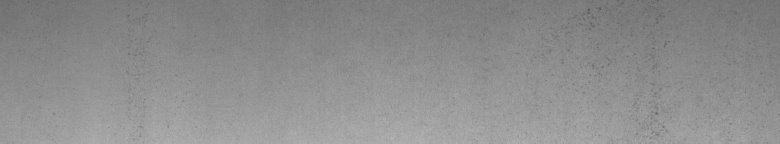ib: (580, 7, 668, 132)
